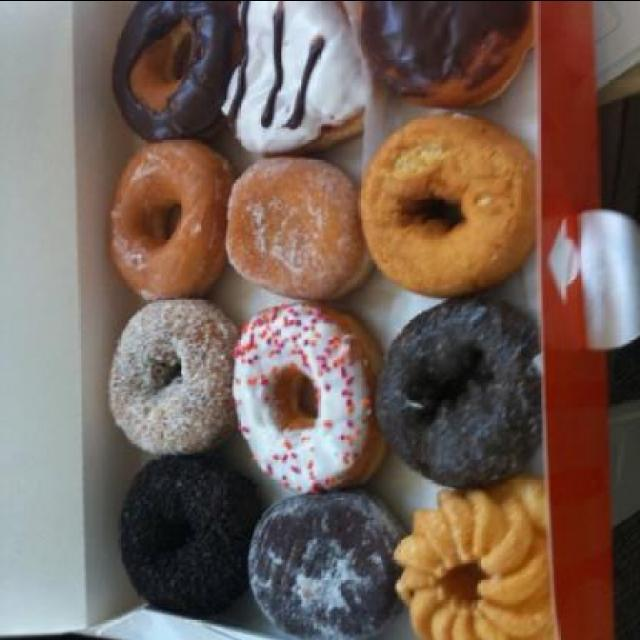Donuts: (112, 1, 532, 634)
